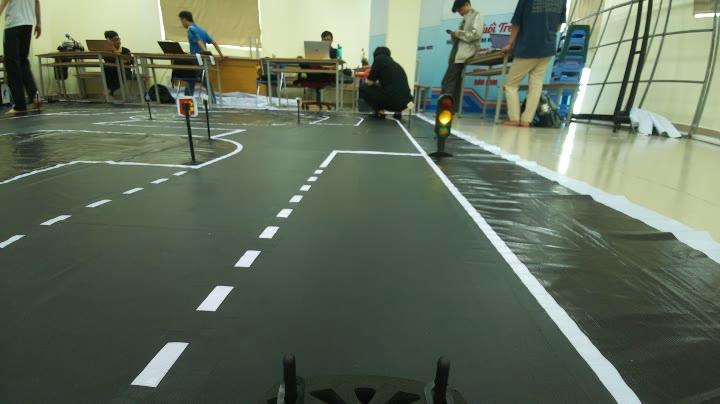trafficlight: (426, 92, 455, 162)
